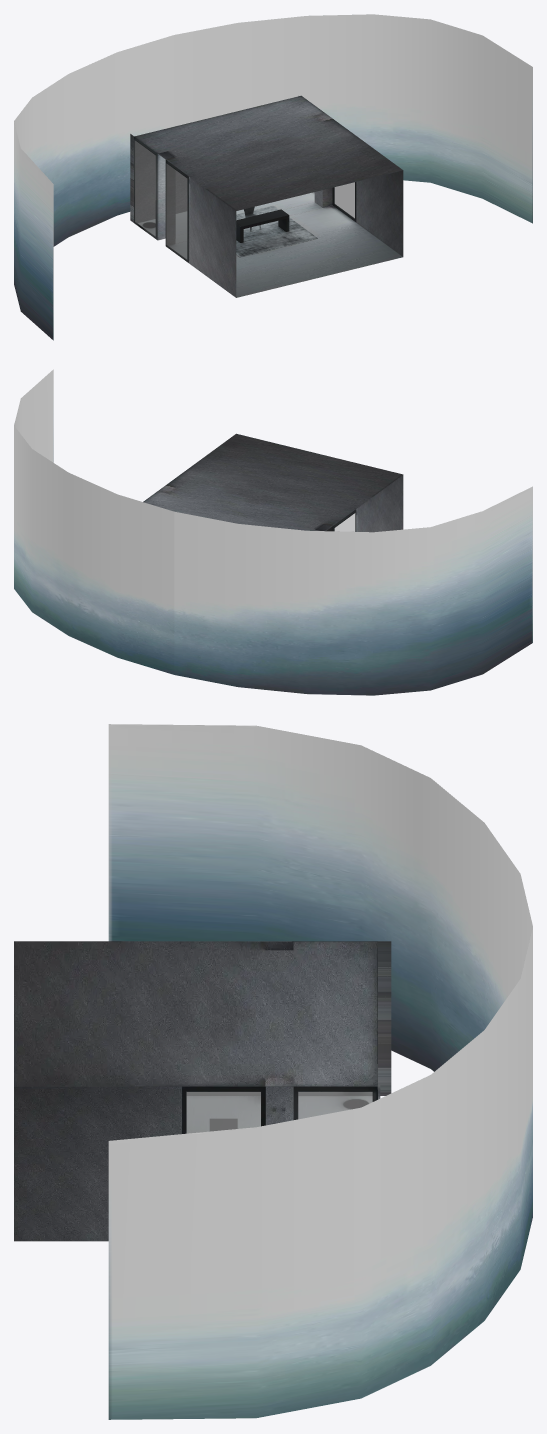
Rendered from mockup-OFFICE.glb.
3 views of the same model, one above another, from view 1: azimuth 30°, elevation 25°; view 2: azimuth 150°, elevation 25°; view 3: azimuth 270°, elevation 25° (orthographic). The views are drawn at different scales.
Visible parts, largest first — view 1: Minimalistic Modern Office, Minimalistic Modern Office.001, Carpet, Minimalistic Modern Office.004; view 2: Minimalistic Modern Office; view 3: Minimalistic Modern Office, Minimalistic Modern Office.001.
Part boxes in pixels (box(x1,y1,x2,y2)): Minimalistic Modern Office: box(14, 14, 532, 340); Minimalistic Modern Office.001: box(130, 134, 186, 222); Carpet: box(236, 205, 317, 257); Minimalistic Modern Office.004: box(236, 209, 289, 242); Minimalistic Modern Office: box(14, 369, 532, 695); Minimalistic Modern Office: box(14, 724, 532, 1419); Minimalistic Modern Office.001: box(377, 941, 391, 1099).
Size of the model in its own units: 22.73 by 7.4 by 11.96.
6 materials, 5 textured.
